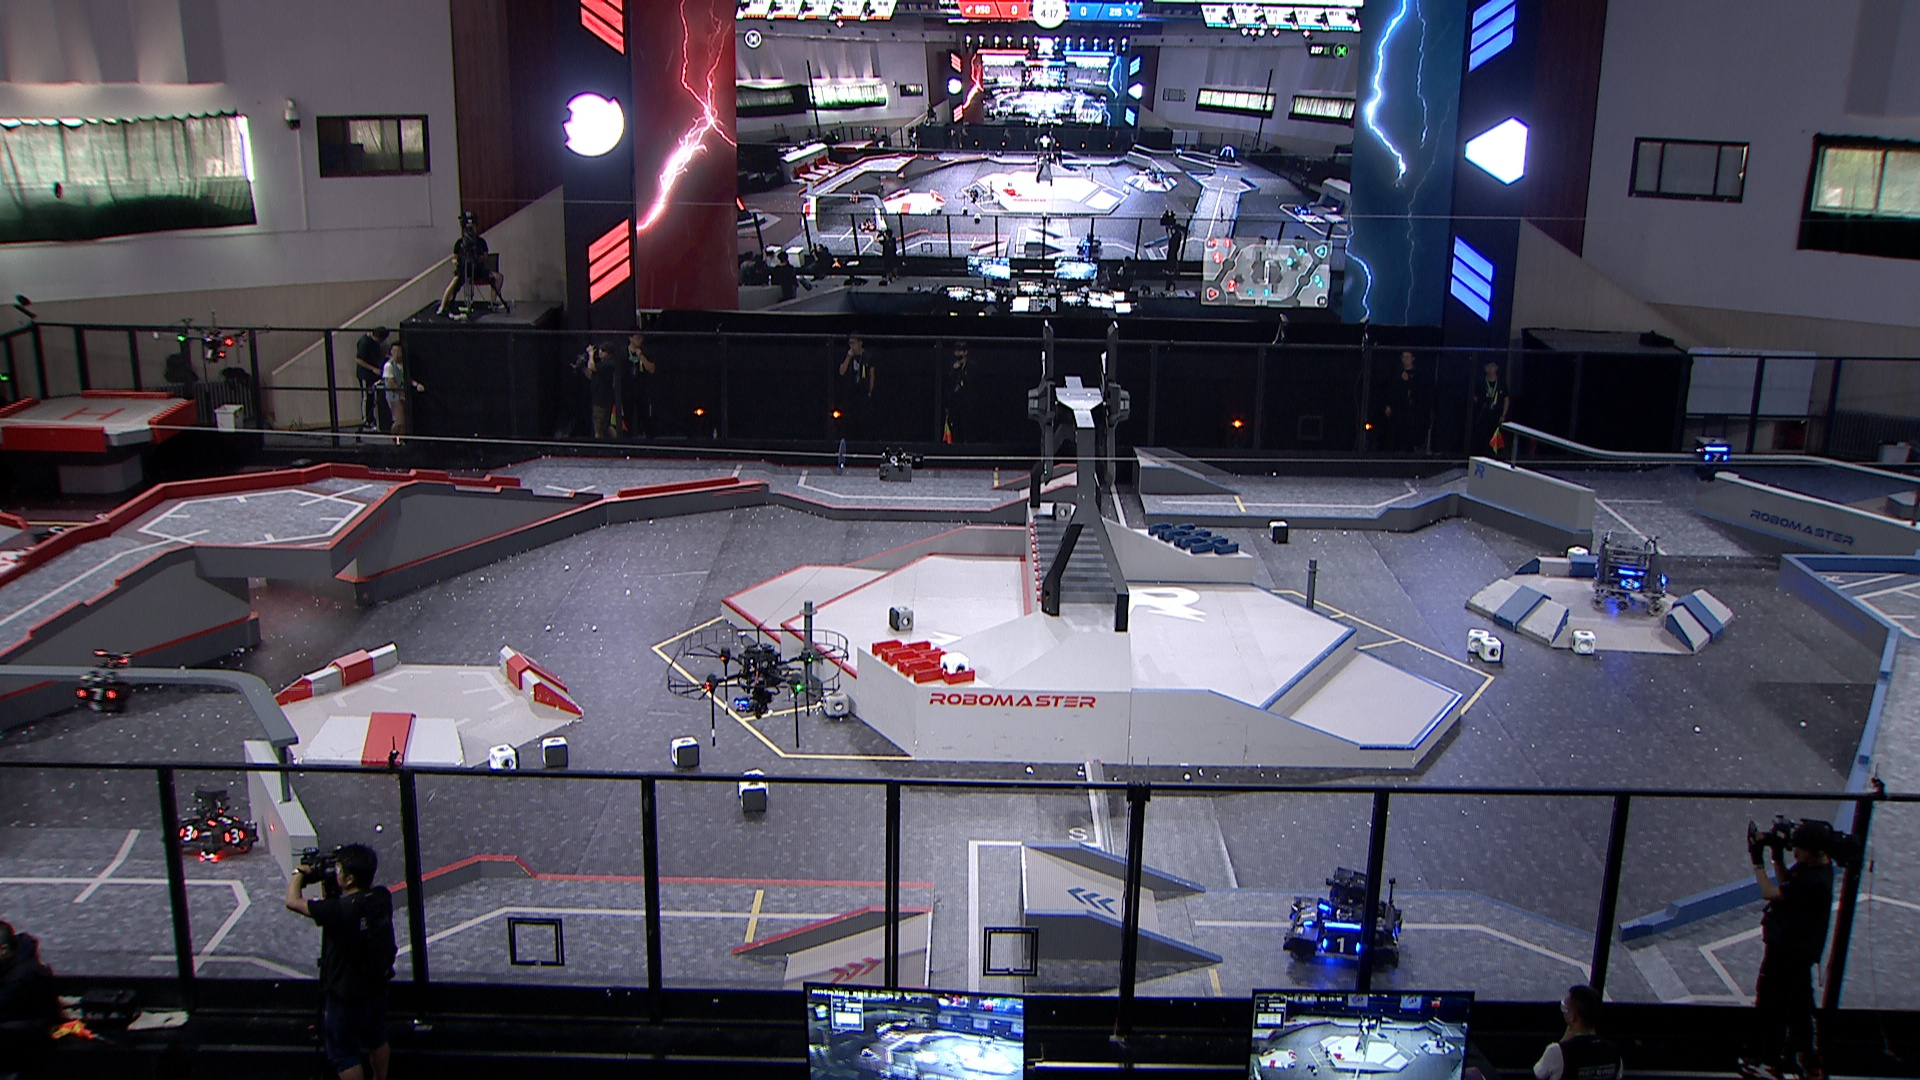armor: (1321, 936, 1361, 955), (76, 687, 117, 704), (222, 827, 247, 847), (206, 815, 240, 827), (1300, 907, 1317, 930), (1702, 451, 1727, 465), (178, 825, 200, 841), (1390, 924, 1403, 951), (1621, 578, 1640, 591)
car: (1280, 864, 1404, 969), (166, 782, 261, 862), (1592, 529, 1671, 617)
ignore: (1077, 235, 1102, 257), (735, 196, 754, 223), (1218, 144, 1237, 164), (1295, 200, 1313, 218), (1149, 167, 1166, 185), (860, 218, 878, 233), (847, 189, 861, 206), (1172, 146, 1183, 160)
watcher: (76, 650, 138, 717), (1691, 436, 1731, 485)
